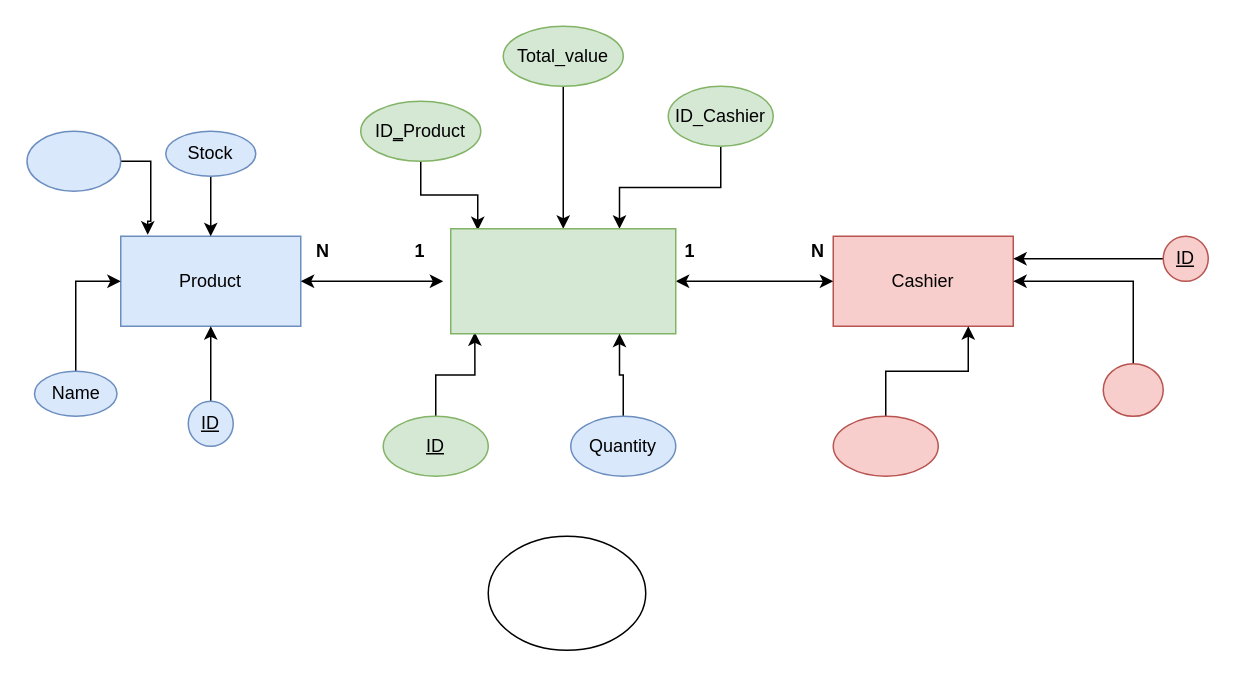
The diagram is 1235 pixels wide and 677 high, and some of its shapes have lost their labels. Here are the shapes that lost their labels. From the top down, the centre of each, then its label:
(73,160): Price
(562,280): Cashier For Products
(1132,389): Date
(885,445): Value_day
(566,592): Quantity Cashier for Product
